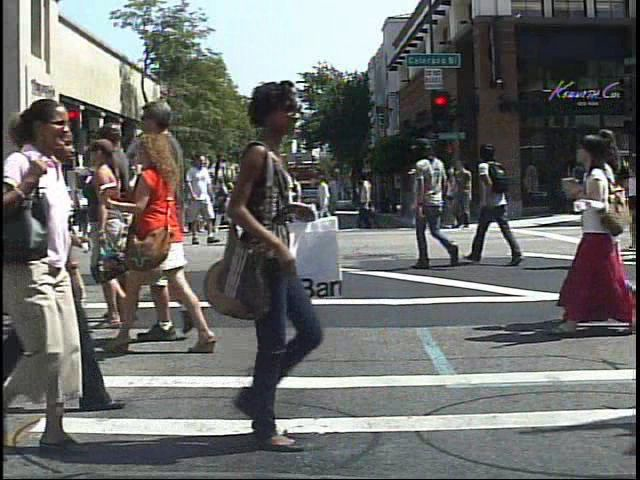person: (189, 78, 327, 460), (2, 92, 130, 465), (118, 121, 228, 358), (122, 96, 194, 350), (555, 120, 635, 347), (468, 138, 531, 271), (404, 129, 460, 274), (593, 127, 624, 342), (181, 152, 216, 249), (124, 161, 153, 244), (138, 159, 168, 239), (406, 161, 435, 233), (50, 183, 76, 245), (76, 164, 94, 247), (85, 183, 105, 224)
